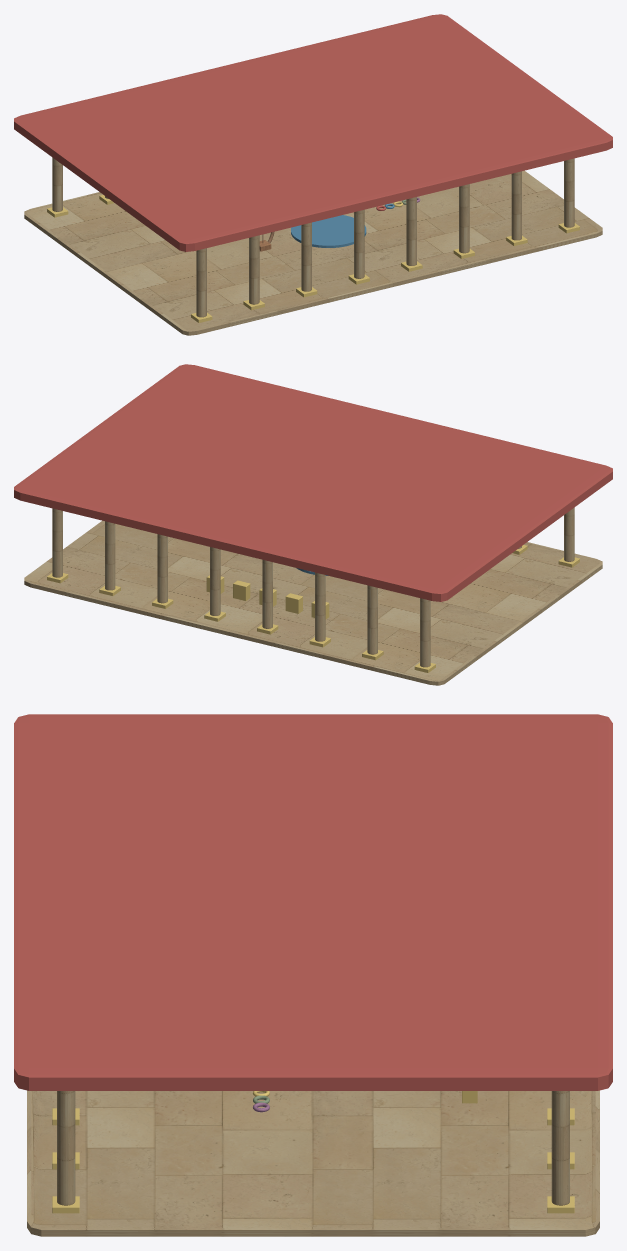
The model's file is adi-10-swayamvara.glb.
3 renders of one model, top to bottom at view 1: azimuth 30°, elevation 25°; view 2: azimuth 150°, elevation 25°; view 3: azimuth 270°, elevation 25°, orthographic. The views are drawn at different scales.
Visible parts, largest first — view 1: GEO-canopy, GEO-floor, GEO-pool, GEO-col.002, GEO-col, GEO-col.010, GEO-col.014, GEO-col.012, GEO-col.004, GEO-col.006, GEO-col.008, GEO-col.001; view 2: GEO-canopy, GEO-floor, GEO-col.003, GEO-col.001, GEO-col.011, GEO-col.015, GEO-col.013, GEO-col.005, GEO-col.007, GEO-col.009, GEO-col; view 3: GEO-canopy, GEO-floor, GEO-col.014, GEO-col.015.
Part boxes in pixels (left/top/right/bottom): GEO-canopy: left=14, top=14, right=612, bottom=251; GEO-floor: left=24, top=170, right=602, bottom=335; GEO-pool: left=291, top=215, right=366, bottom=247; GEO-col.002: left=249, top=235, right=259, bottom=304; GEO-col: left=196, top=248, right=206, bottom=317; GEO-col.010: left=459, top=184, right=469, bottom=253; GEO-col.014: left=564, top=158, right=574, bottom=227; GEO-col.012: left=511, top=171, right=521, bottom=240; GEO-col.004: left=301, top=222, right=311, bottom=291; GEO-col.006: left=354, top=209, right=364, bottom=278; GEO-col.008: left=406, top=197, right=416, bottom=265; GEO-col.001: left=52, top=157, right=62, bottom=211; GEO-canopy: left=14, top=364, right=612, bottom=601; GEO-floor: left=24, top=520, right=602, bottom=685; GEO-col.003: left=367, top=585, right=377, bottom=654; GEO-col.001: left=420, top=598, right=430, bottom=667; GEO-col.011: left=157, top=534, right=167, bottom=603; GEO-col.015: left=52, top=508, right=62, bottom=577; GEO-col.013: left=105, top=521, right=115, bottom=590; GEO-col.005: left=315, top=572, right=325, bottom=641; GEO-col.007: left=262, top=559, right=272, bottom=628; GEO-col.009: left=210, top=547, right=220, bottom=615; GEO-col: left=564, top=507, right=574, bottom=561; GEO-canopy: left=14, top=714, right=612, bottom=1090; GEO-floor: left=27, top=1090, right=599, bottom=1236; GEO-col.014: left=57, top=1091, right=75, bottom=1205; GEO-col.015: left=551, top=1091, right=569, bottom=1205.
Bounding box in the file's own units: 66 × 14 × 46.
Materials: 12 (3 with a texture image).
